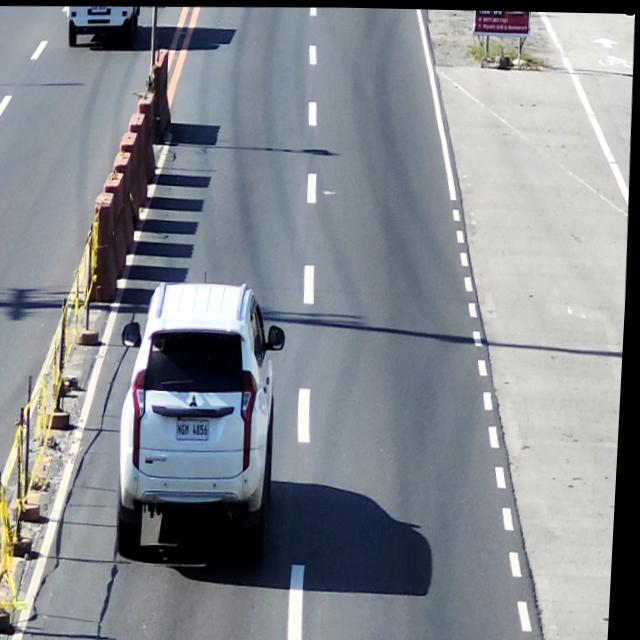Car: (117, 278, 287, 566)
License-Plate: (179, 414, 216, 445), (90, 6, 105, 14)
